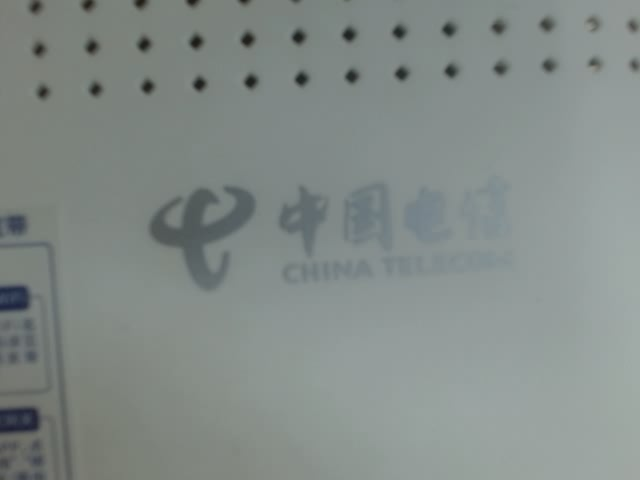ChinaTelecom1: (136, 149, 531, 309)
